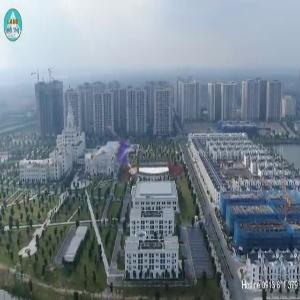drone: (93, 116, 171, 194)
